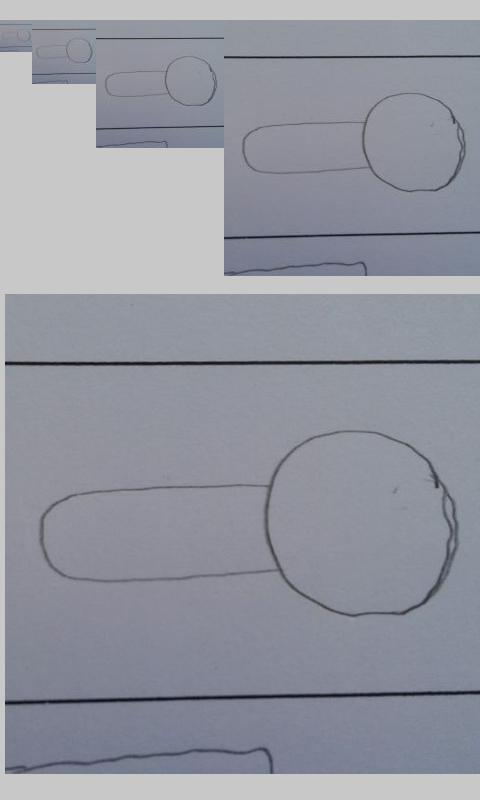switch: (38, 429, 460, 620), (241, 91, 467, 194), (104, 55, 218, 107), (35, 37, 94, 64), (1, 28, 31, 43)
